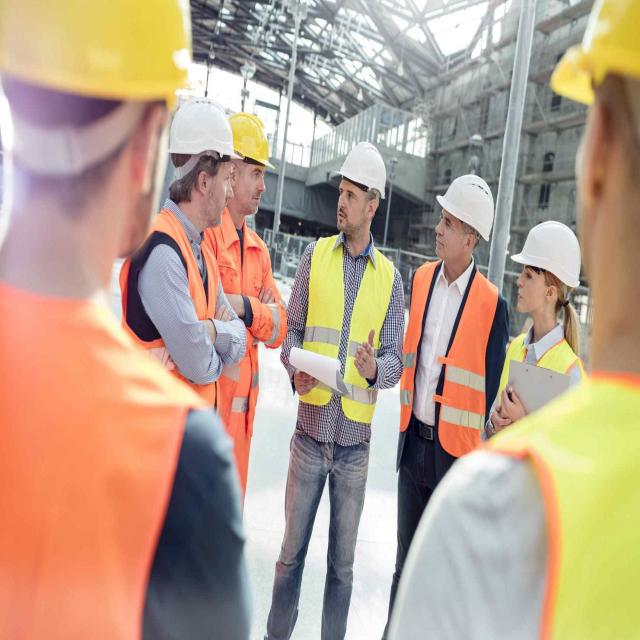Reflective-Jacket: (0, 273, 212, 628), (494, 351, 638, 640), (401, 258, 502, 448), (294, 234, 394, 421), (131, 210, 223, 410)
Safety-Helmet: (1, 0, 197, 114), (548, 0, 640, 113), (512, 213, 583, 290), (166, 91, 237, 164), (436, 165, 496, 243), (335, 137, 389, 200), (228, 107, 276, 171)
